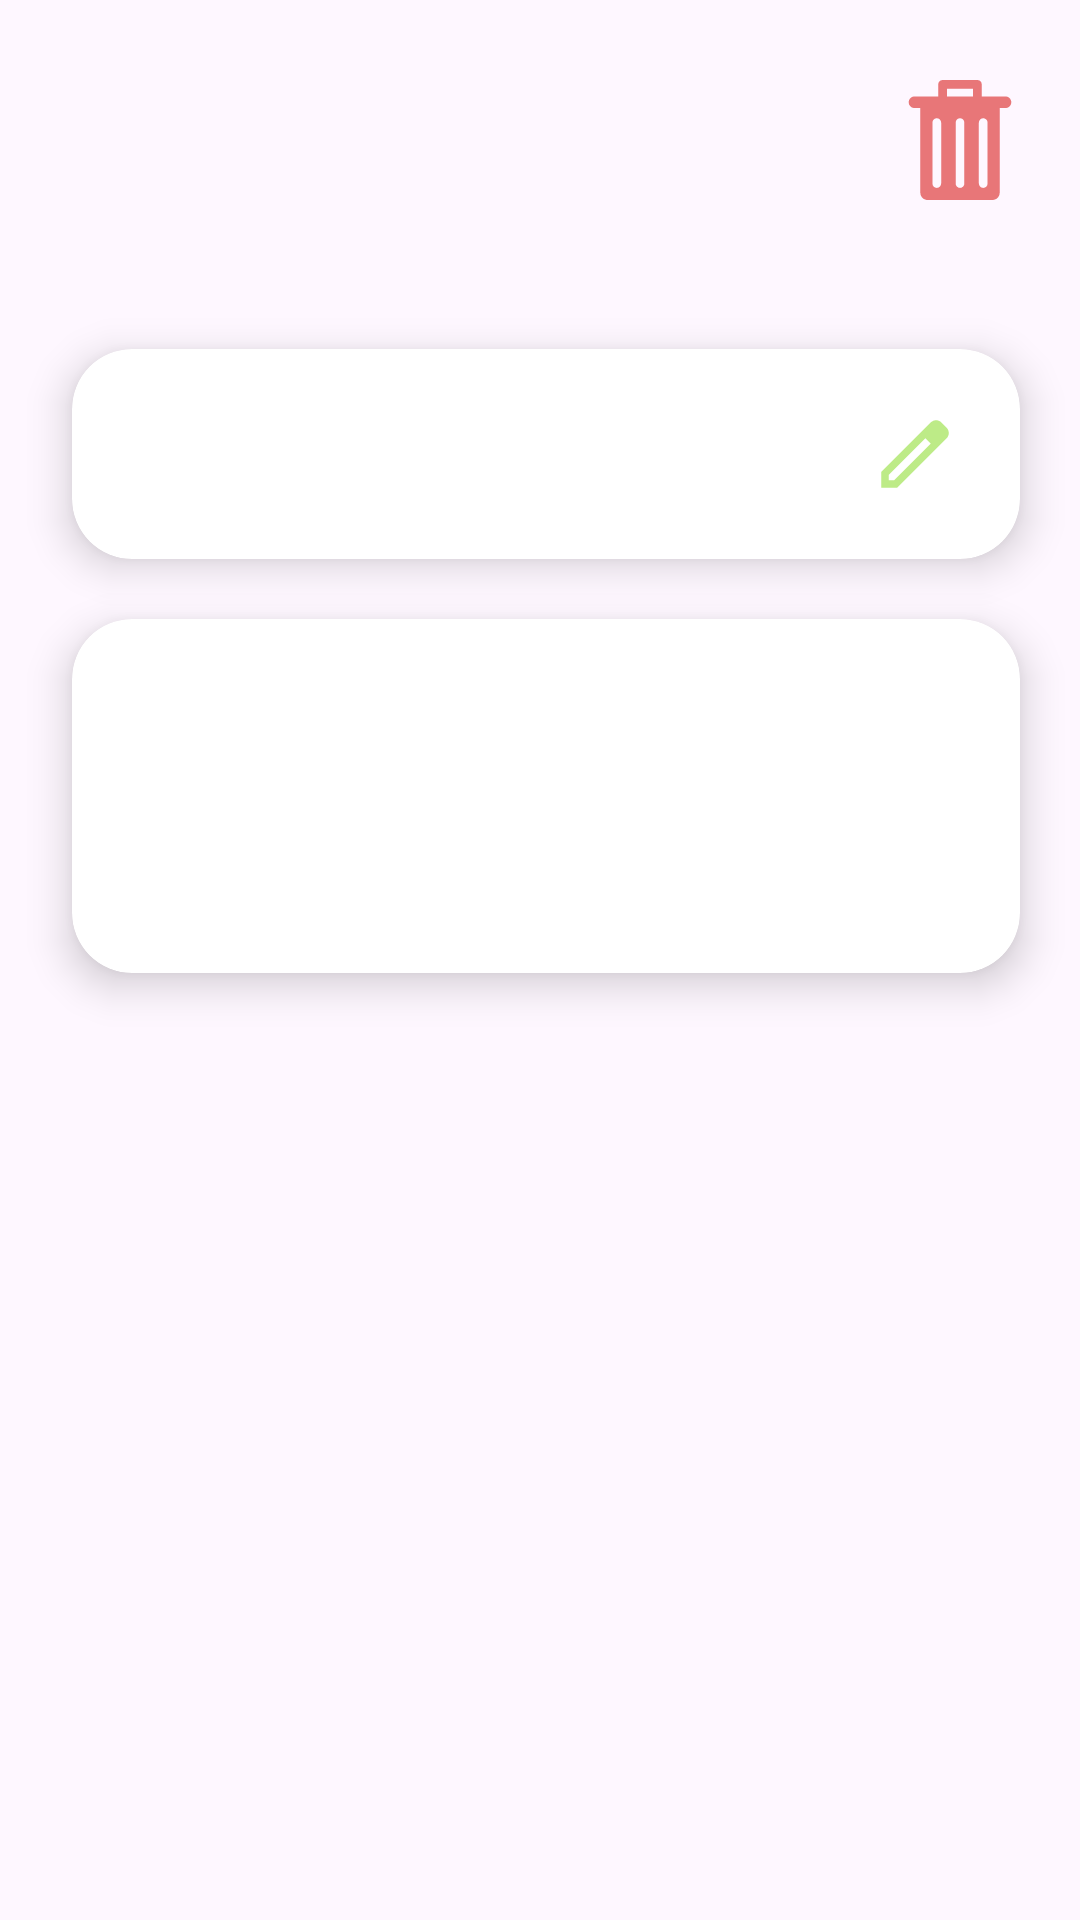

Where icons sit on this 1080 × 1920 app screen, as (x1, y1, x2, y2):
edit pencil: (881, 420, 949, 488)
trash can: (908, 80, 1012, 200)
